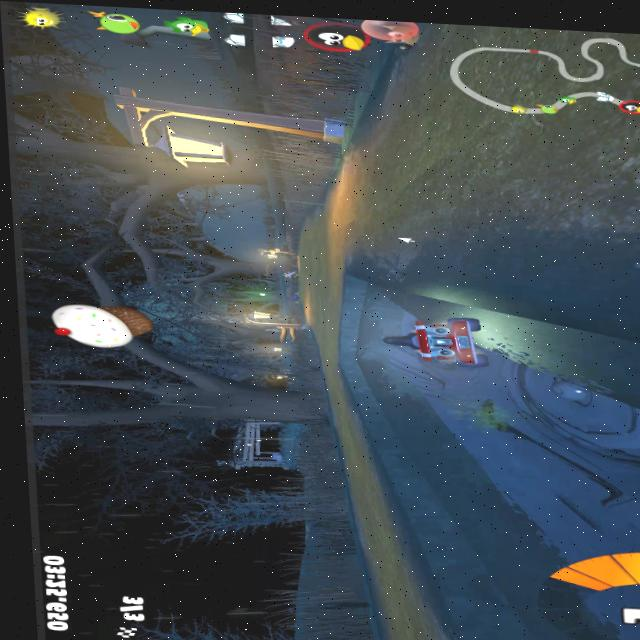player_kart: (388, 311, 503, 376)
track: (410, 21, 640, 195), (448, 187, 640, 313), (324, 180, 447, 282), (353, 502, 406, 592), (370, 94, 415, 184), (290, 237, 333, 327), (375, 596, 440, 640), (338, 430, 374, 500), (315, 370, 350, 425), (304, 326, 334, 364), (344, 144, 371, 181), (304, 216, 332, 239), (316, 364, 333, 371)
